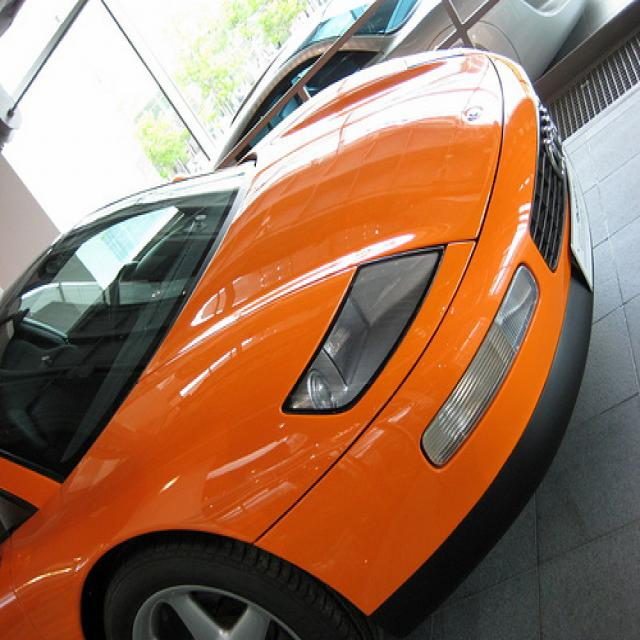Car: (0, 39, 594, 640)
